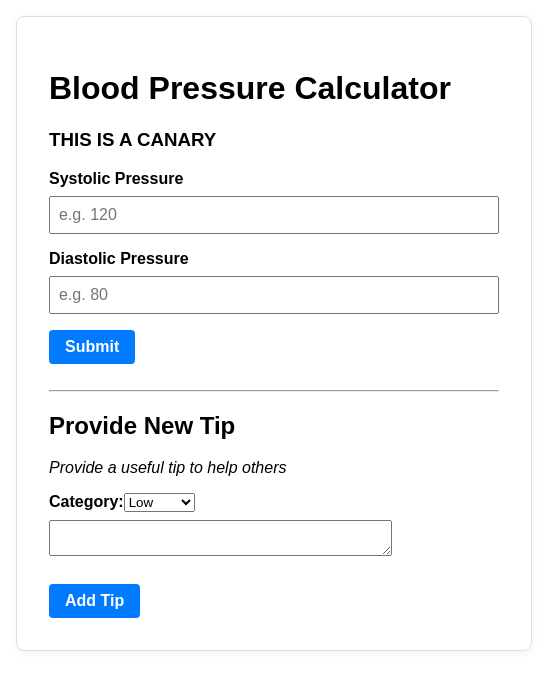
Test: API error shows fallback message
Type "120" into the number field labelled "Systolic Pressure" at (274, 215), box [49,196,499,234]
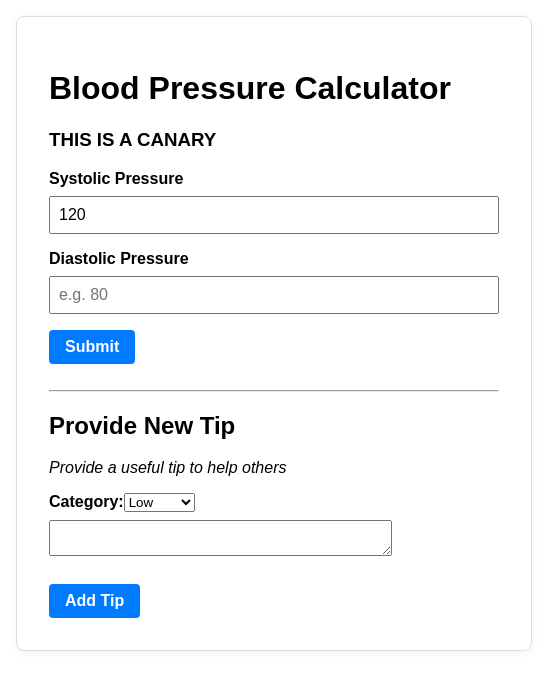
Type "80" into the number field labelled "Diastolic Pressure" at (274, 295), box [49,276,499,314]
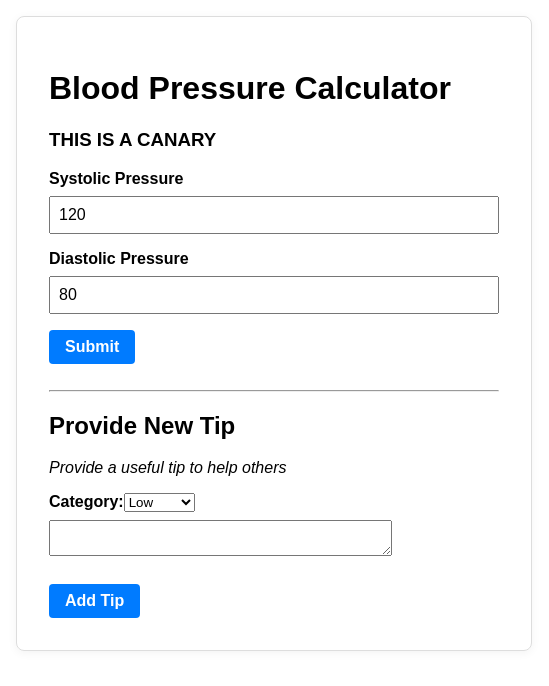
Click the button "Submit" at (92, 347), box [49,330,135,364]
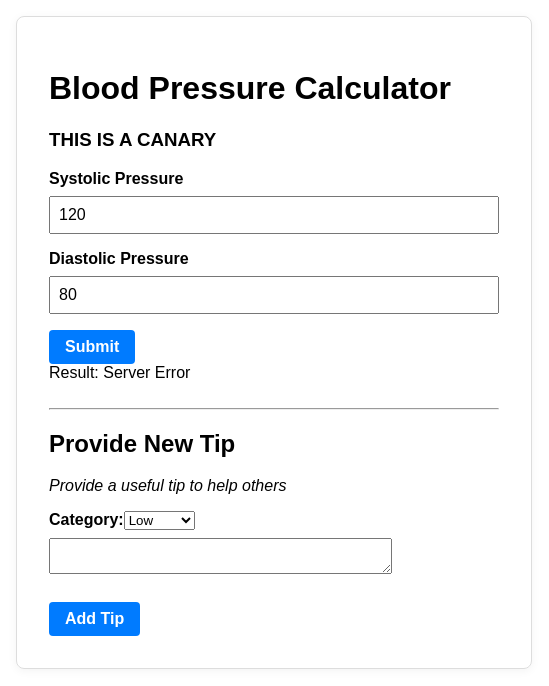
Check: the text "Result: Server Error" is shown, box [49,364,190,381]
